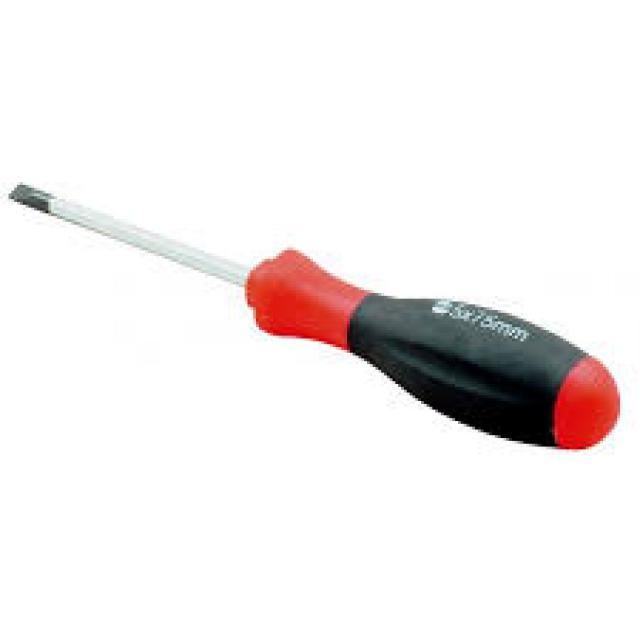screwdriver: (4, 180, 622, 460)
